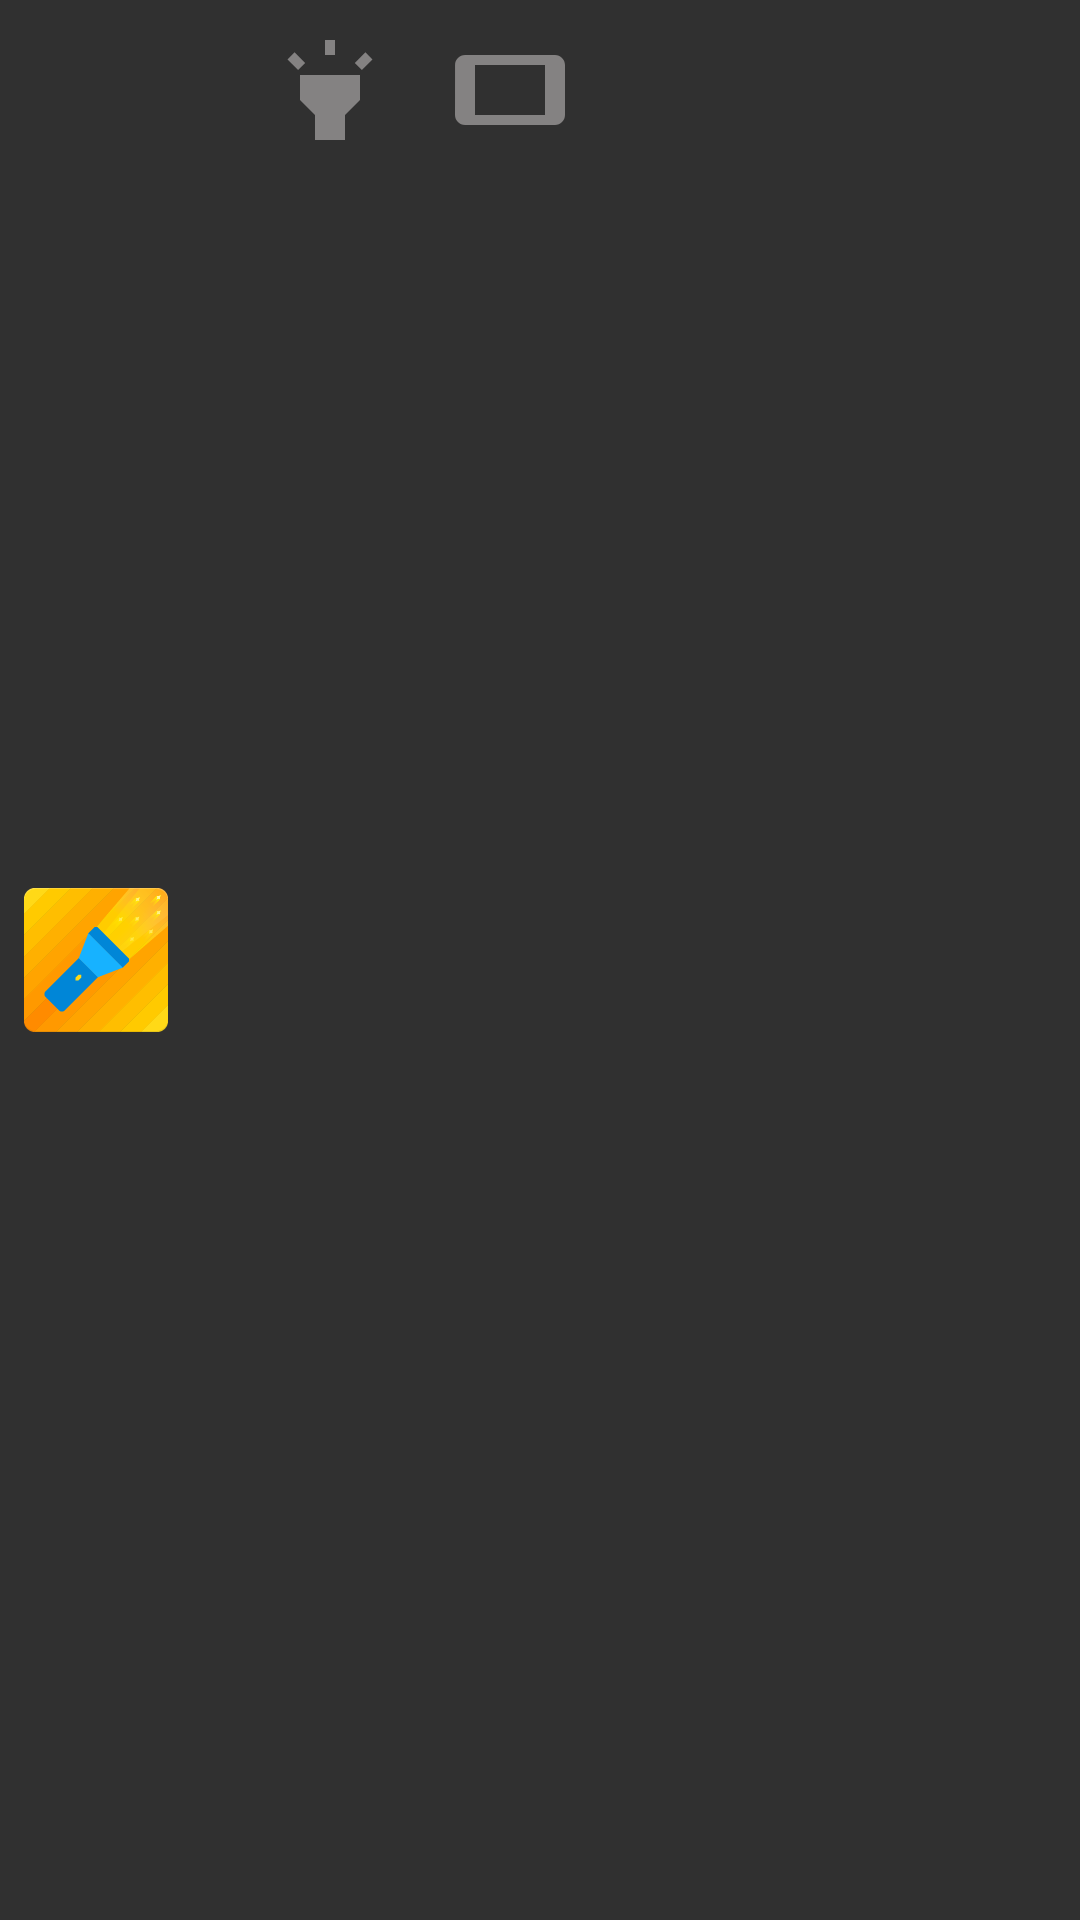

Locate icon controls on the screen. Image size 1080px×1920px, boxes as (x1, y1, x2, y2).
flashlight: (288, 40, 372, 140)
screen: (455, 55, 565, 125)
